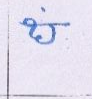anusvara: (41, 7, 45, 12)
